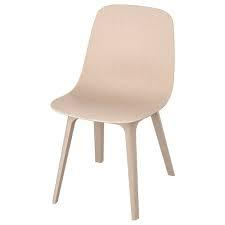chair: (45, 4, 181, 218)
